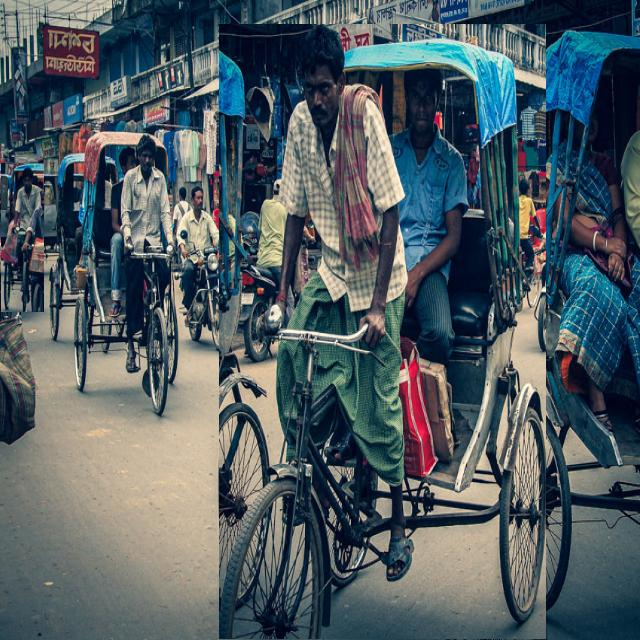bicycle: (219, 25, 546, 639), (75, 133, 174, 414), (0, 163, 44, 312)
motorcycle: (178, 187, 228, 350)
